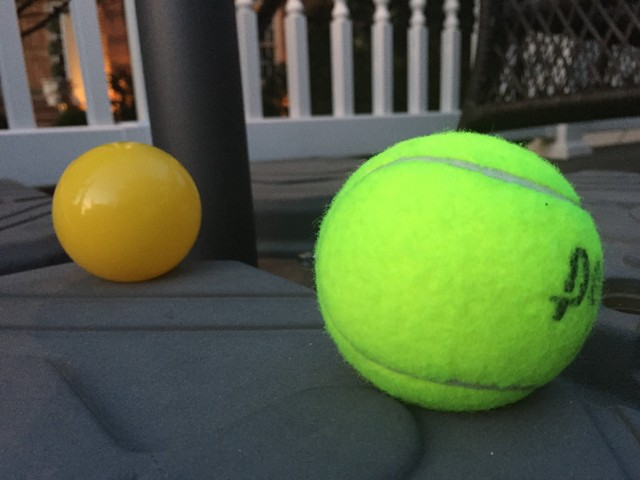Ball: (57, 138, 198, 287)
